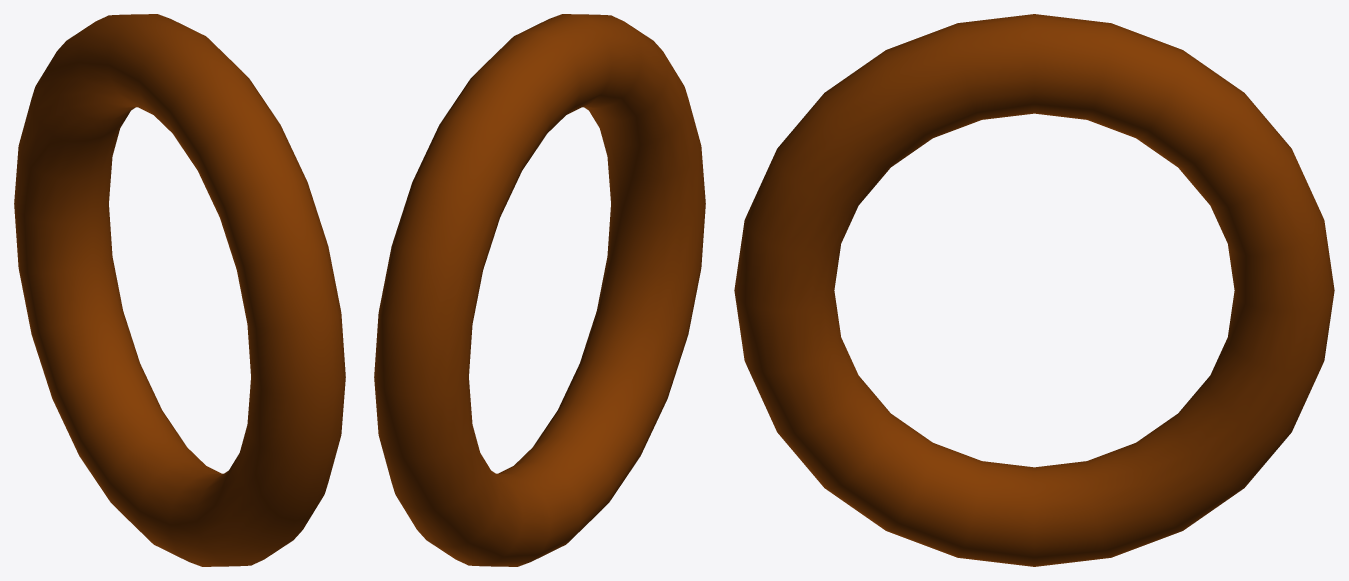
The model's file is PARTICULAS onda.fbx.
The picture shows the model from 3 angles, left to right: view 1: azimuth 30°, elevation 25°; view 2: azimuth 150°, elevation 25°; view 3: azimuth 270°, elevation 25°; orthographic projection. The views are drawn at different scales.
Parts seen in each view (by area): view 1: Toroide; view 2: Toroide; view 3: Toroide.
Boxes of the visible parts, x1,y1,x2,y2 form: Toroide: (14, 14, 345, 566); Toroide: (374, 14, 705, 566); Toroide: (734, 14, 1334, 566).
Bounding box in the file's own units: 3.94 × 24 × 24.
